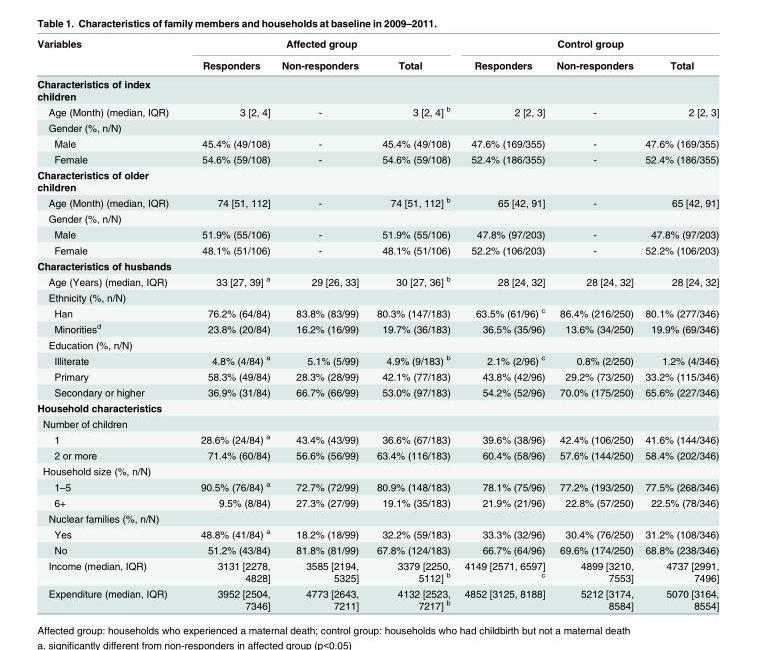table: (36, 37, 718, 611)
table column: (36, 37, 185, 611), (456, 37, 550, 611), (275, 37, 367, 611), (185, 37, 275, 611), (367, 37, 456, 611), (550, 37, 638, 611), (638, 37, 718, 611)
table column header: (36, 37, 718, 74)
table projected row header: (36, 74, 718, 102), (36, 166, 718, 193), (36, 119, 718, 135), (36, 210, 718, 226), (36, 399, 718, 415), (36, 257, 718, 272), (36, 289, 718, 304), (36, 336, 718, 351), (36, 415, 718, 430), (36, 462, 718, 477), (36, 510, 718, 525)
table row: (36, 74, 718, 102), (36, 557, 718, 585), (36, 166, 718, 193), (36, 585, 718, 611), (36, 53, 718, 74), (36, 102, 718, 119), (36, 193, 718, 210), (36, 272, 718, 289), (36, 351, 718, 368), (36, 430, 718, 447), (36, 477, 718, 494), (36, 37, 718, 53), (36, 119, 718, 135), (36, 135, 718, 151), (36, 210, 718, 226), (36, 241, 718, 257), (36, 304, 718, 320), (36, 320, 718, 336), (36, 383, 718, 399), (36, 399, 718, 415), (36, 494, 718, 510), (36, 525, 718, 541), (36, 541, 718, 557), (36, 151, 718, 166), (36, 226, 718, 241), (36, 257, 718, 272), (36, 289, 718, 304), (36, 336, 718, 351), (36, 368, 718, 383), (36, 415, 718, 430), (36, 447, 718, 462), (36, 462, 718, 477), (36, 510, 718, 525)
table spanning cell: (36, 37, 185, 74), (185, 37, 456, 53), (456, 37, 718, 53)
